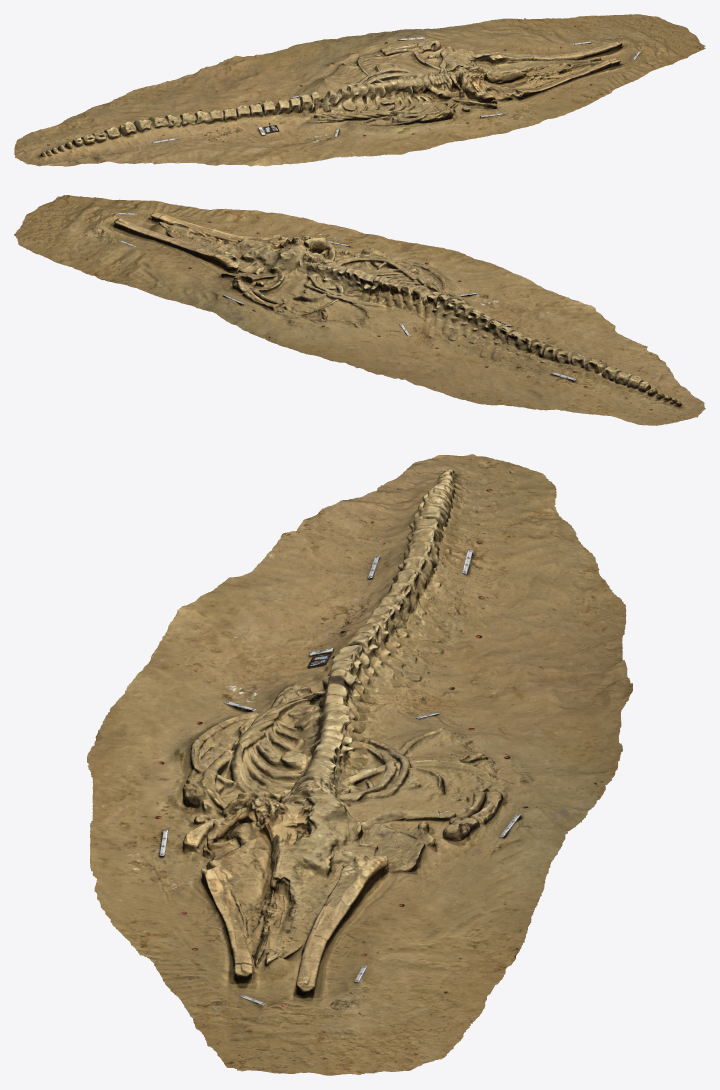
Rendered from whale-mpc-677-150k-4096.glb.
3 renders of one model, top to bottom at view 1: azimuth 30°, elevation 25°; view 2: azimuth 150°, elevation 25°; view 3: azimuth 270°, elevation 25°, orthographic. The views are drawn at different scales.
Size of the model in its own units: 9118 by 381 by 3386.
Materials: 1 (1 with a texture image).
